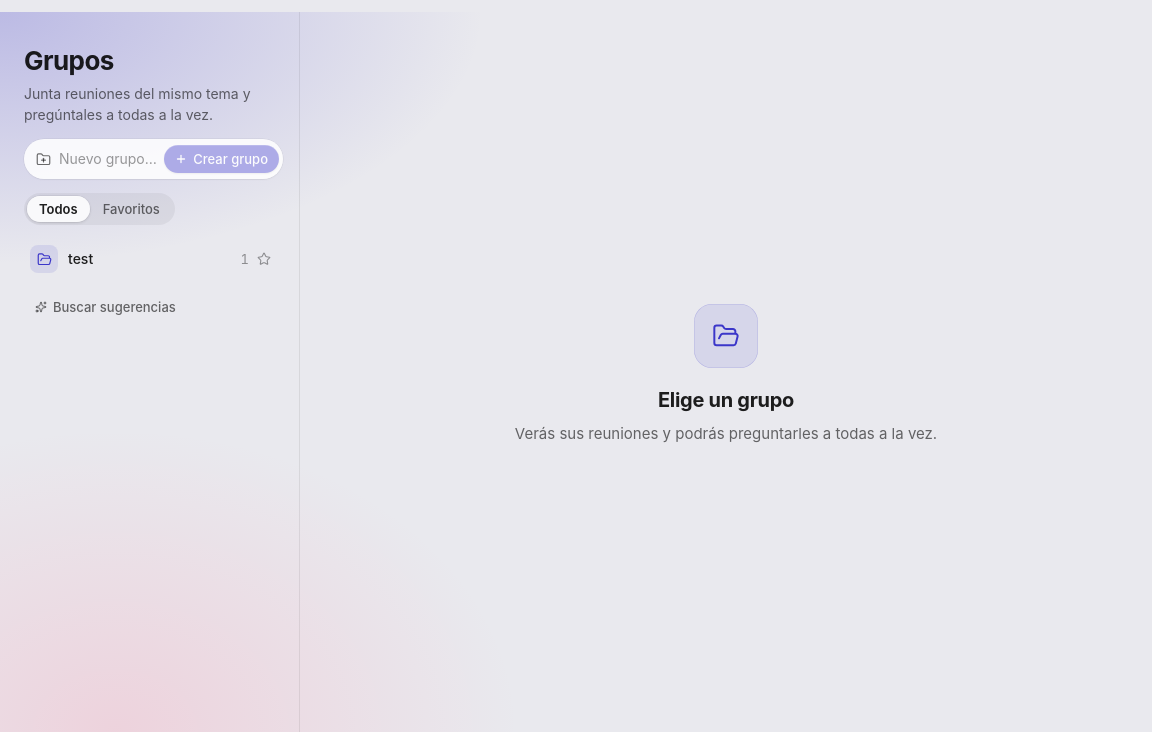
GroupsContainer › «Sugerir título» nombra el grupo por lo que se habló en sus reuniones
The width and height of the screenshot is (1152, 732).
Type "Otro" into the field named "Nombre del grupo nuevo". click: (108, 159)
box: [59,143,156,175]
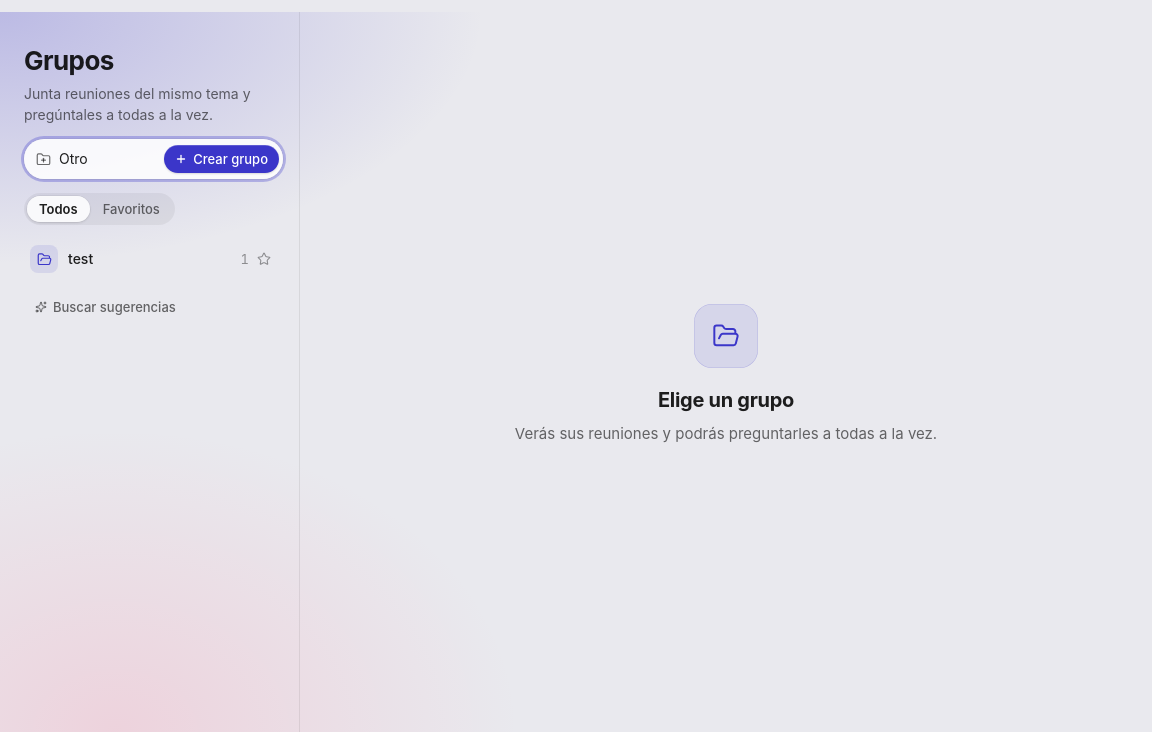
Click the button "Crear grupo". click: (222, 159)
box: [164,145,279,173]
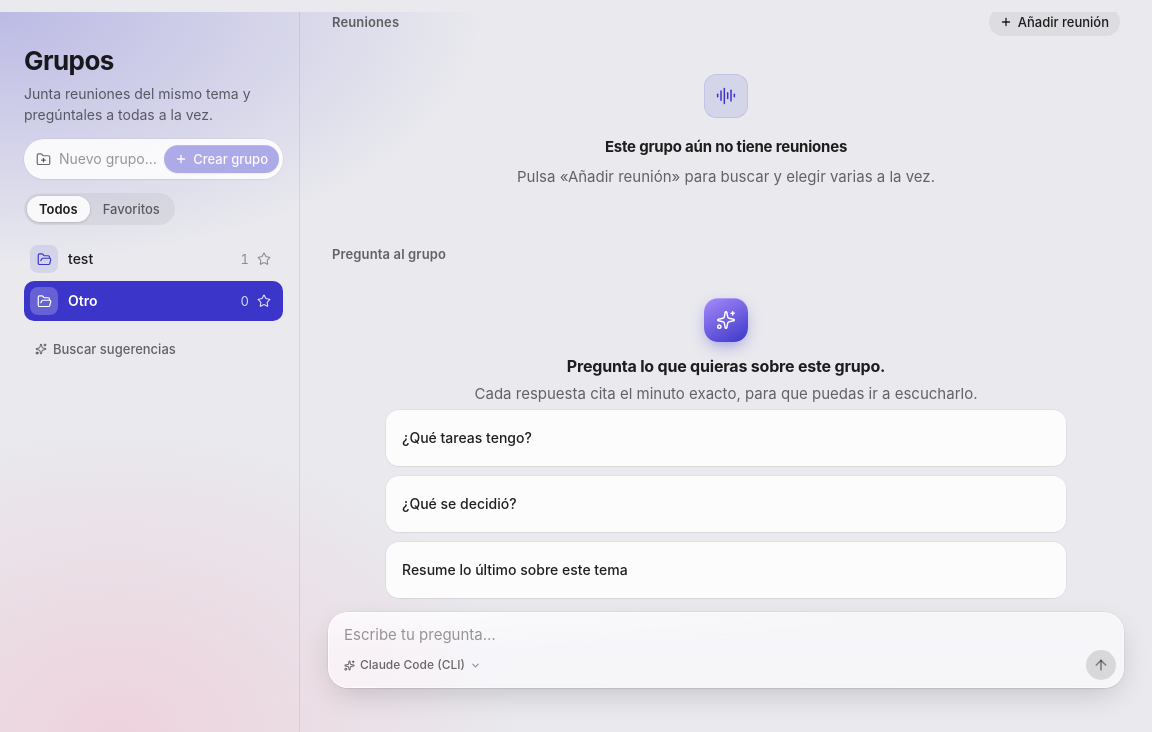
Click the button "test 1". click: (154, 259)
box: [24,239,283,279]
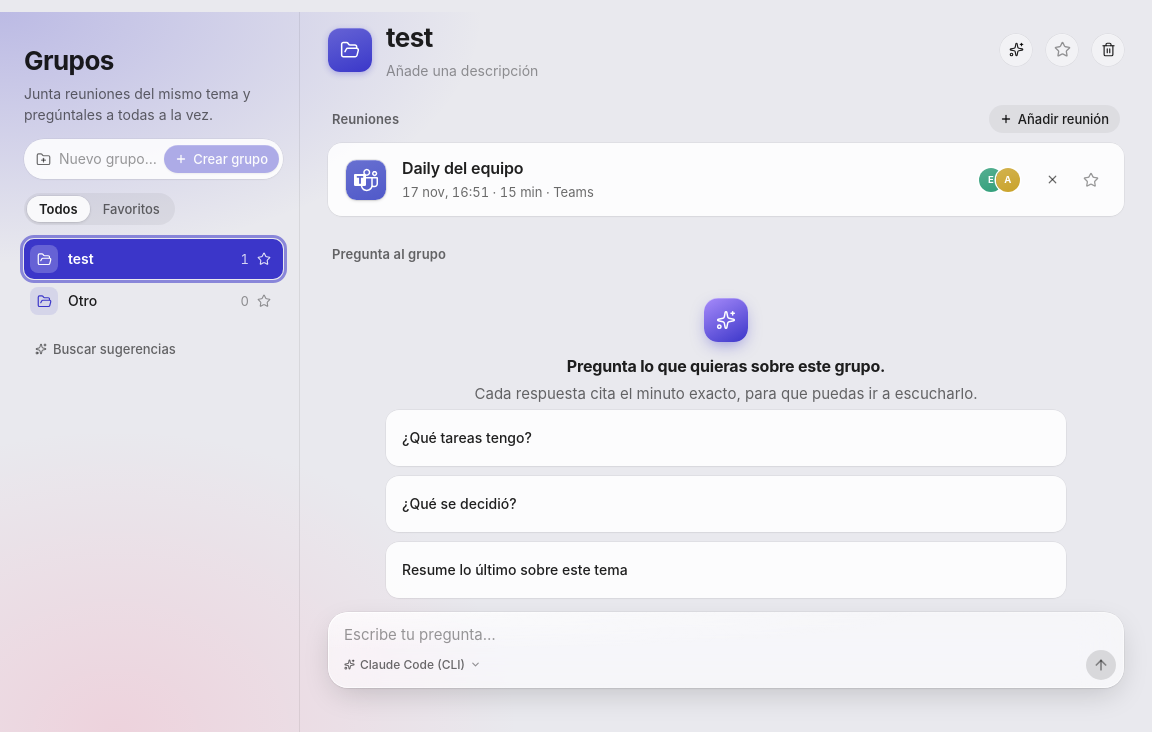
Click the button named "Sugerir título". click: (1016, 50)
box: [1000,34,1032,66]
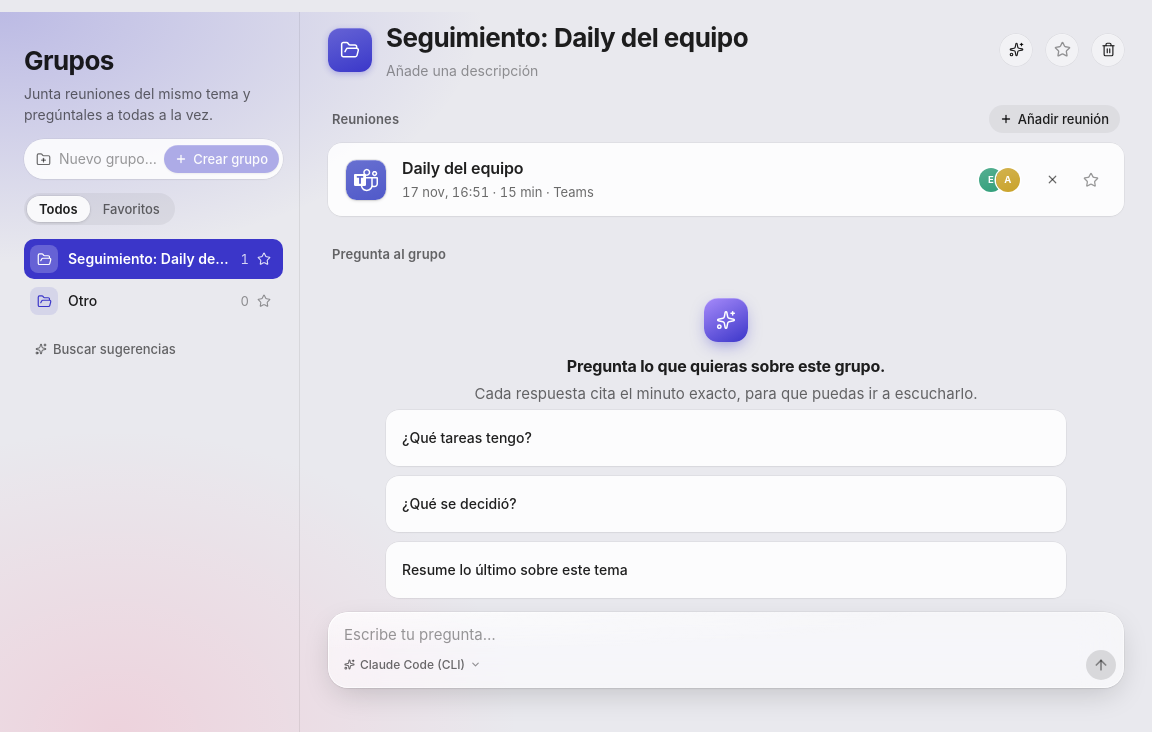
Now the text "Seguimiento: Daily del equipo" is shown, box [68,249,231,269]
Now the field named "Nombre del grupo" holds "Seguimiento: Daily del equipo", box [380,17,980,59]
